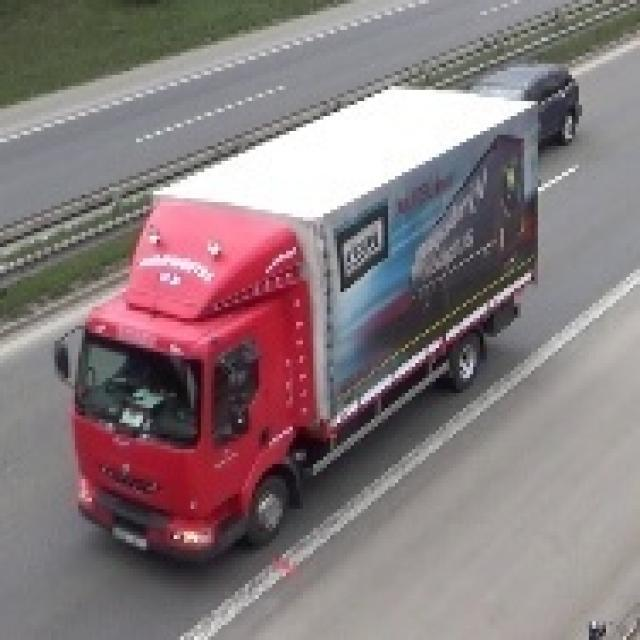truck: (48, 79, 534, 566)
